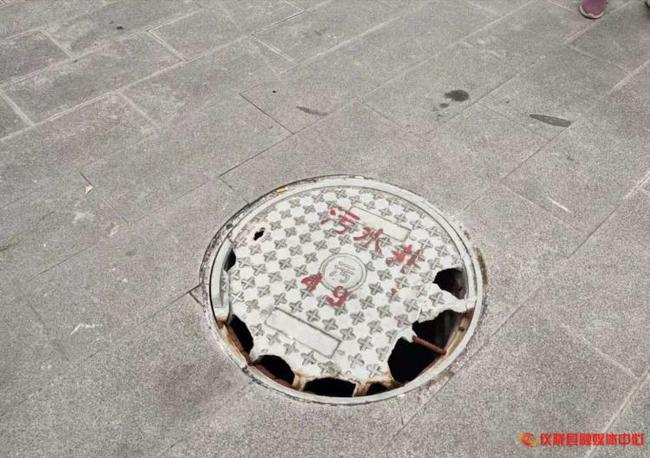broke: (187, 161, 501, 415)
